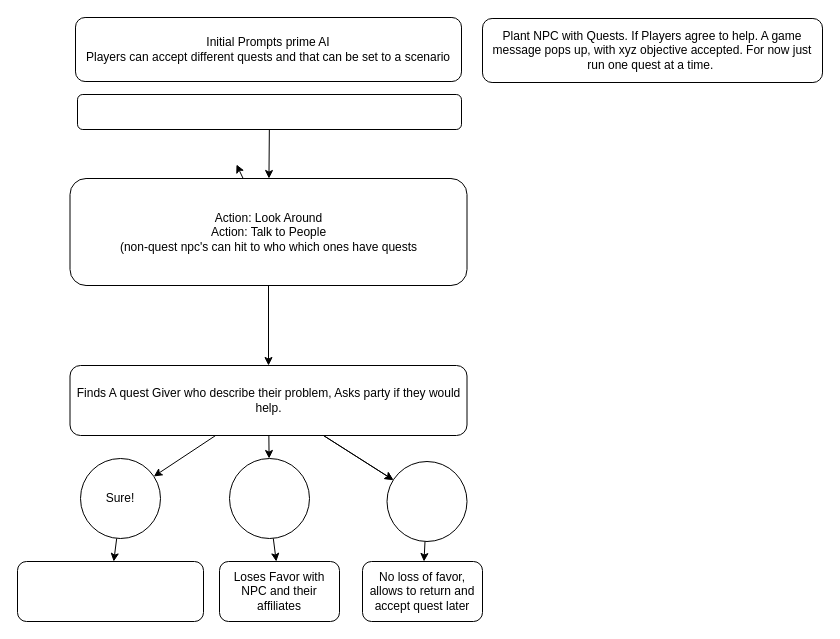
This 840x639 diagram has some shape labels left out. The shapes that lost their labels are listed below. From the top down, each one's centre as x and y in pixels, then its label:
At [269,112]: "GM: What Do you do?".
At [269,498]: "Hard Pass!".
At [426,501]: "Maybe Later".
At [110,591]: "New Objective Started. Saves scenario to DB so AI know's how to handle game.".
